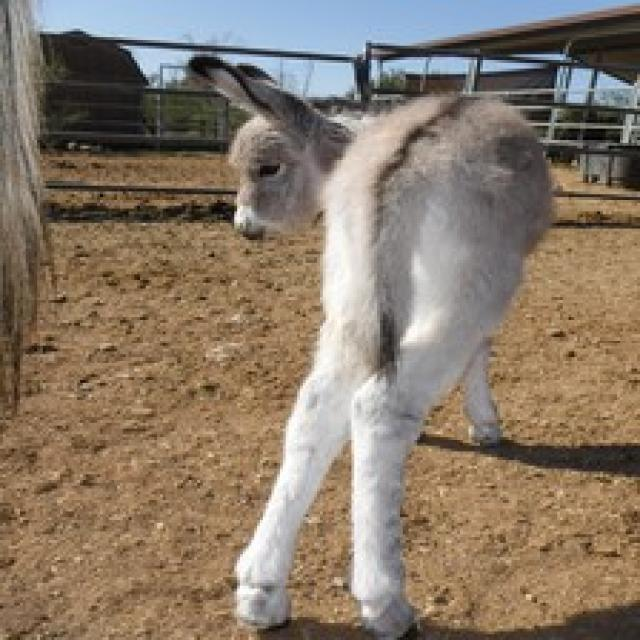Donkey: (182, 52, 558, 638), (0, 0, 51, 637)
